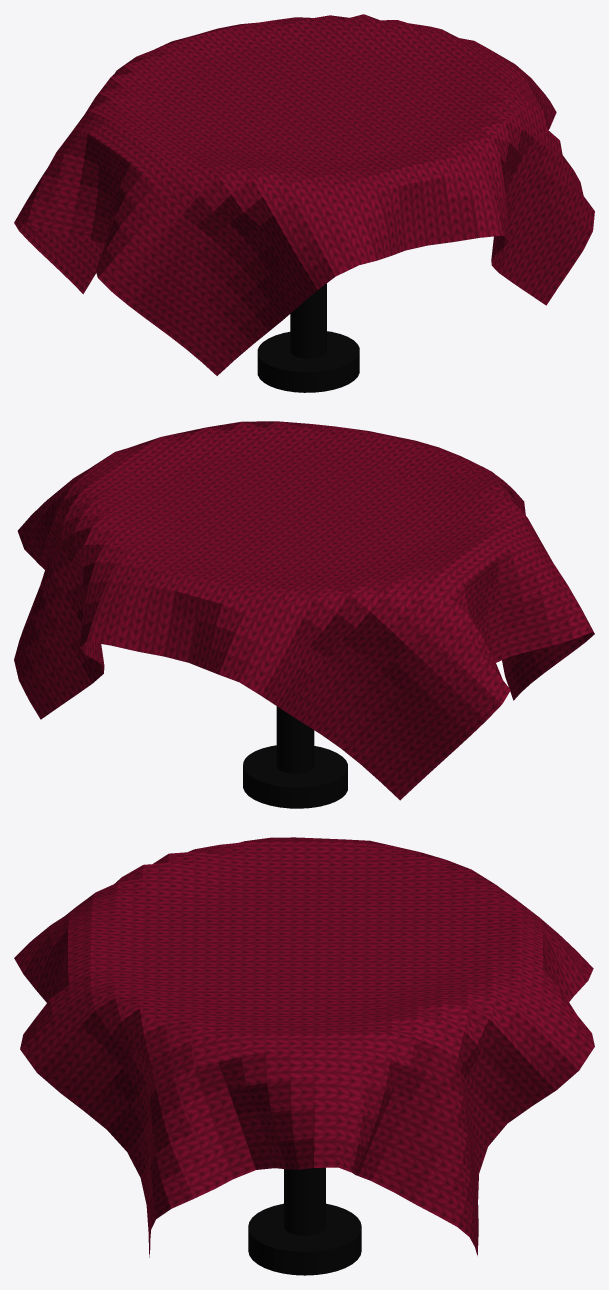
Rendered from Mesa.fbx.
The picture shows the model from 3 angles, top to bottom: view 1: azimuth 30°, elevation 25°; view 2: azimuth 150°, elevation 25°; view 3: azimuth 270°, elevation 25°; orthographic projection. The views are drawn at different scales.
Parts seen in each view (by area): view 1: Plane, Cylinder, Cylinder.001; view 2: Plane, Cylinder, Cylinder.001; view 3: Plane, Cylinder, Cylinder.001.
Part boxes in pixels (<box>): Plane: <box>14,14,594,375</box>; Cylinder: <box>257,331,359,392</box>; Cylinder.001: <box>290,283,326,358</box>; Plane: <box>14,421,594,800</box>; Cylinder: <box>243,745,347,808</box>; Cylinder.001: <box>276,706,314,773</box>; Plane: <box>14,837,594,1257</box>; Cylinder: <box>248,1203,361,1275</box>; Cylinder.001: <box>284,1167,325,1235</box>.
Bounding box in the file's own units: 556 × 291 × 483.
2 materials, 1 textured.
